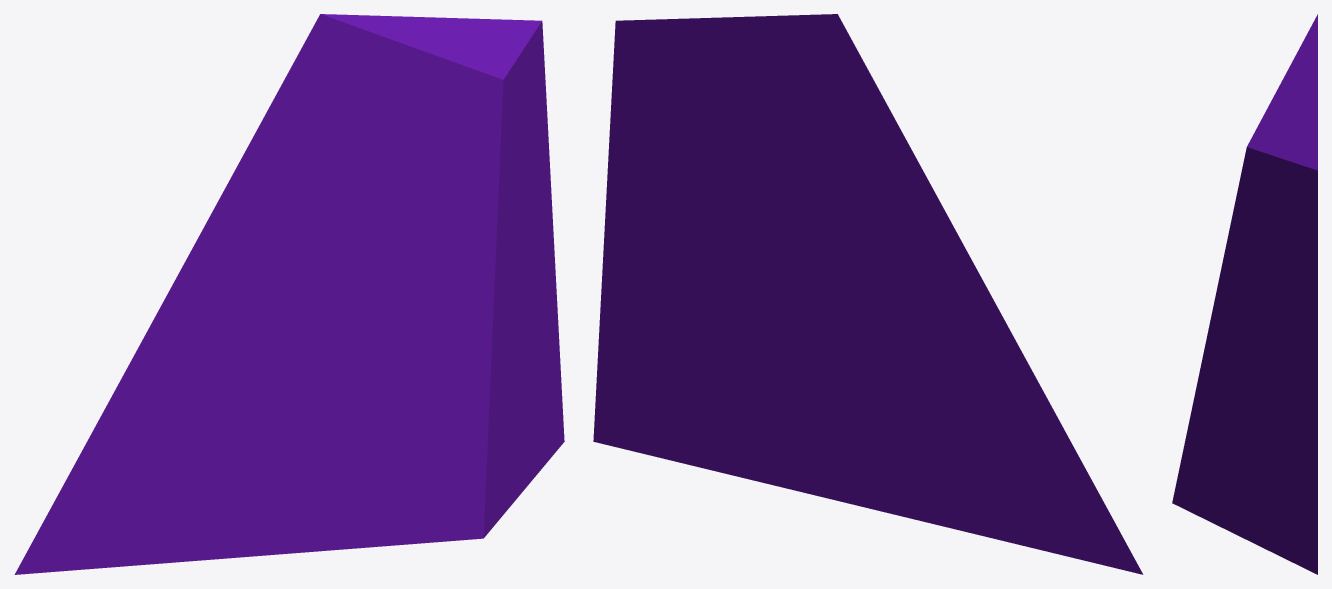
File: Band_9_10_chunks.fbx
3 views of the same model, side by side, from view 1: azimuth 30°, elevation 25°; view 2: azimuth 150°, elevation 25°; view 3: azimuth 270°, elevation 25° (orthographic). The views are drawn at different scales.
Visible parts, largest first — view 1: Band_9_10_0; view 2: Band_9_10_0; view 3: Band_9_10_0.
Boxes of the visible parts, box(x1,y1,x2,y2) form: Band_9_10_0: box(14, 14, 564, 574); Band_9_10_0: box(593, 14, 1143, 574); Band_9_10_0: box(1172, 14, 1317, 574).
Bounding box in the file's own units: 32.23 × 27.3 × 7.99.
